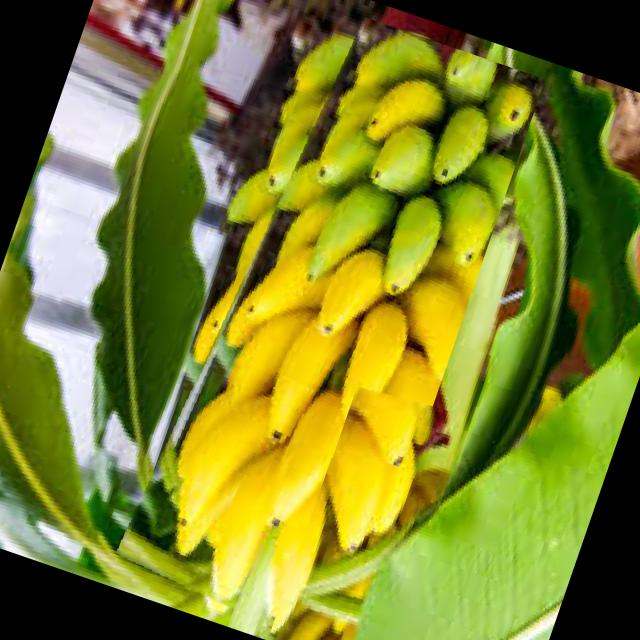Organic: (105, 0, 544, 640), (266, 377, 452, 640)
